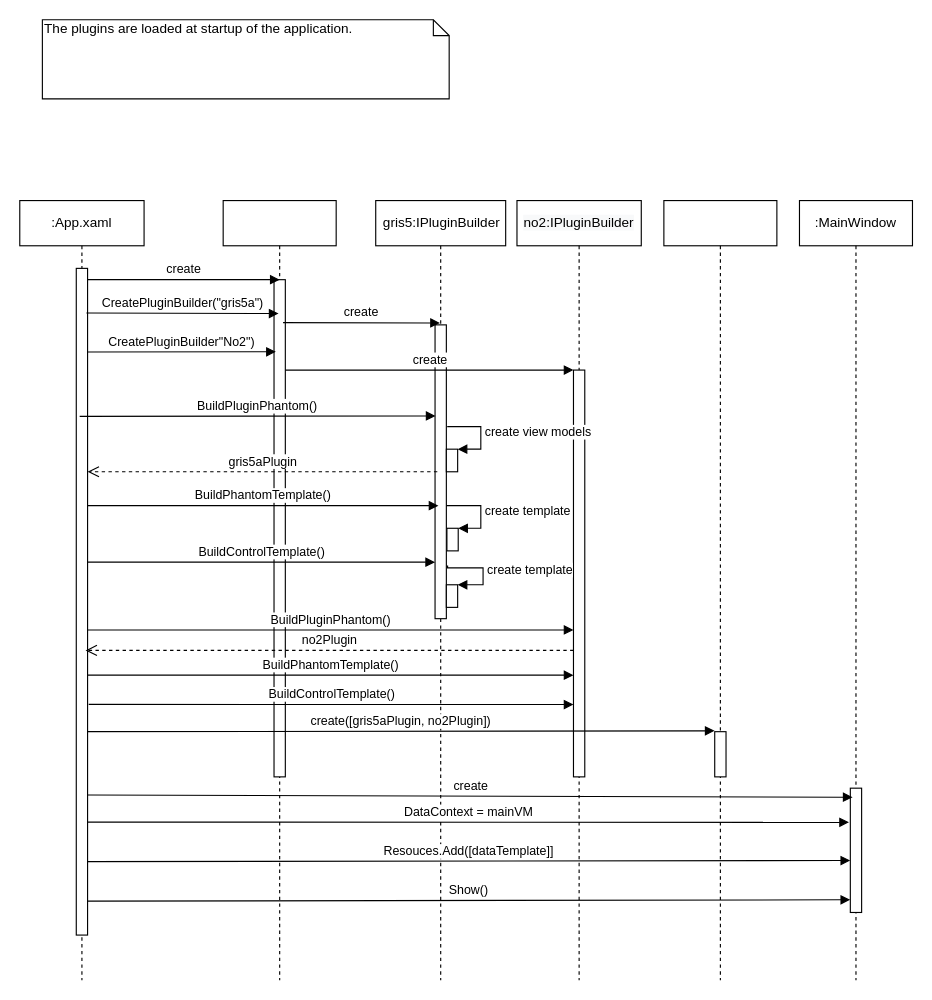
Some shapes in this 932 by 1000 pixel diagram are drawn without their labels. The box of each missing label's shape, as (x1, y1, x2, y2) in pixels:
:MainViewModel: (663, 199, 777, 980)
:PluginFactory: (222, 199, 336, 980)
